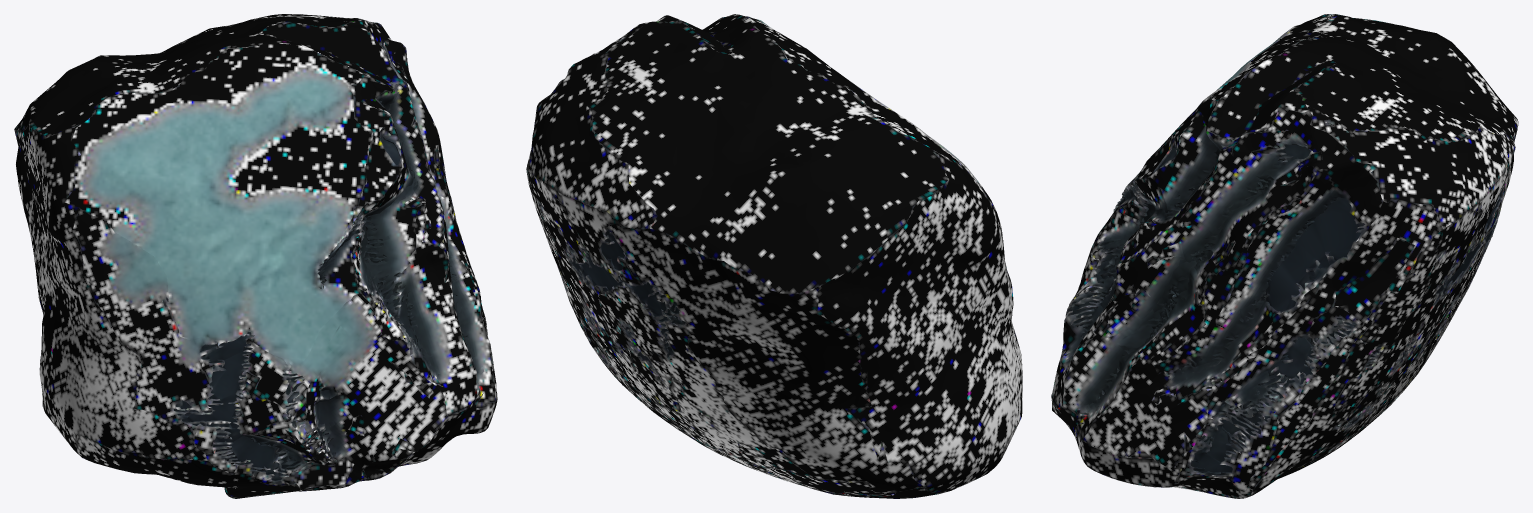
3 renders of one model, left to right at view 1: azimuth 30°, elevation 25°; view 2: azimuth 150°, elevation 25°; view 3: azimuth 270°, elevation 25°, orthographic. The views are drawn at different scales.
Parts seen in each view (by area): view 1: world; view 2: world; view 3: world.
Boxes of the visible parts, box(x1,y1,x2,y2) form: world: box(14, 14, 497, 498); world: box(526, 14, 1022, 498); world: box(1051, 14, 1518, 498).
Size of the model in its own units: 0.35 by 0.351 by 0.3559.
1 material, 1 textured.
